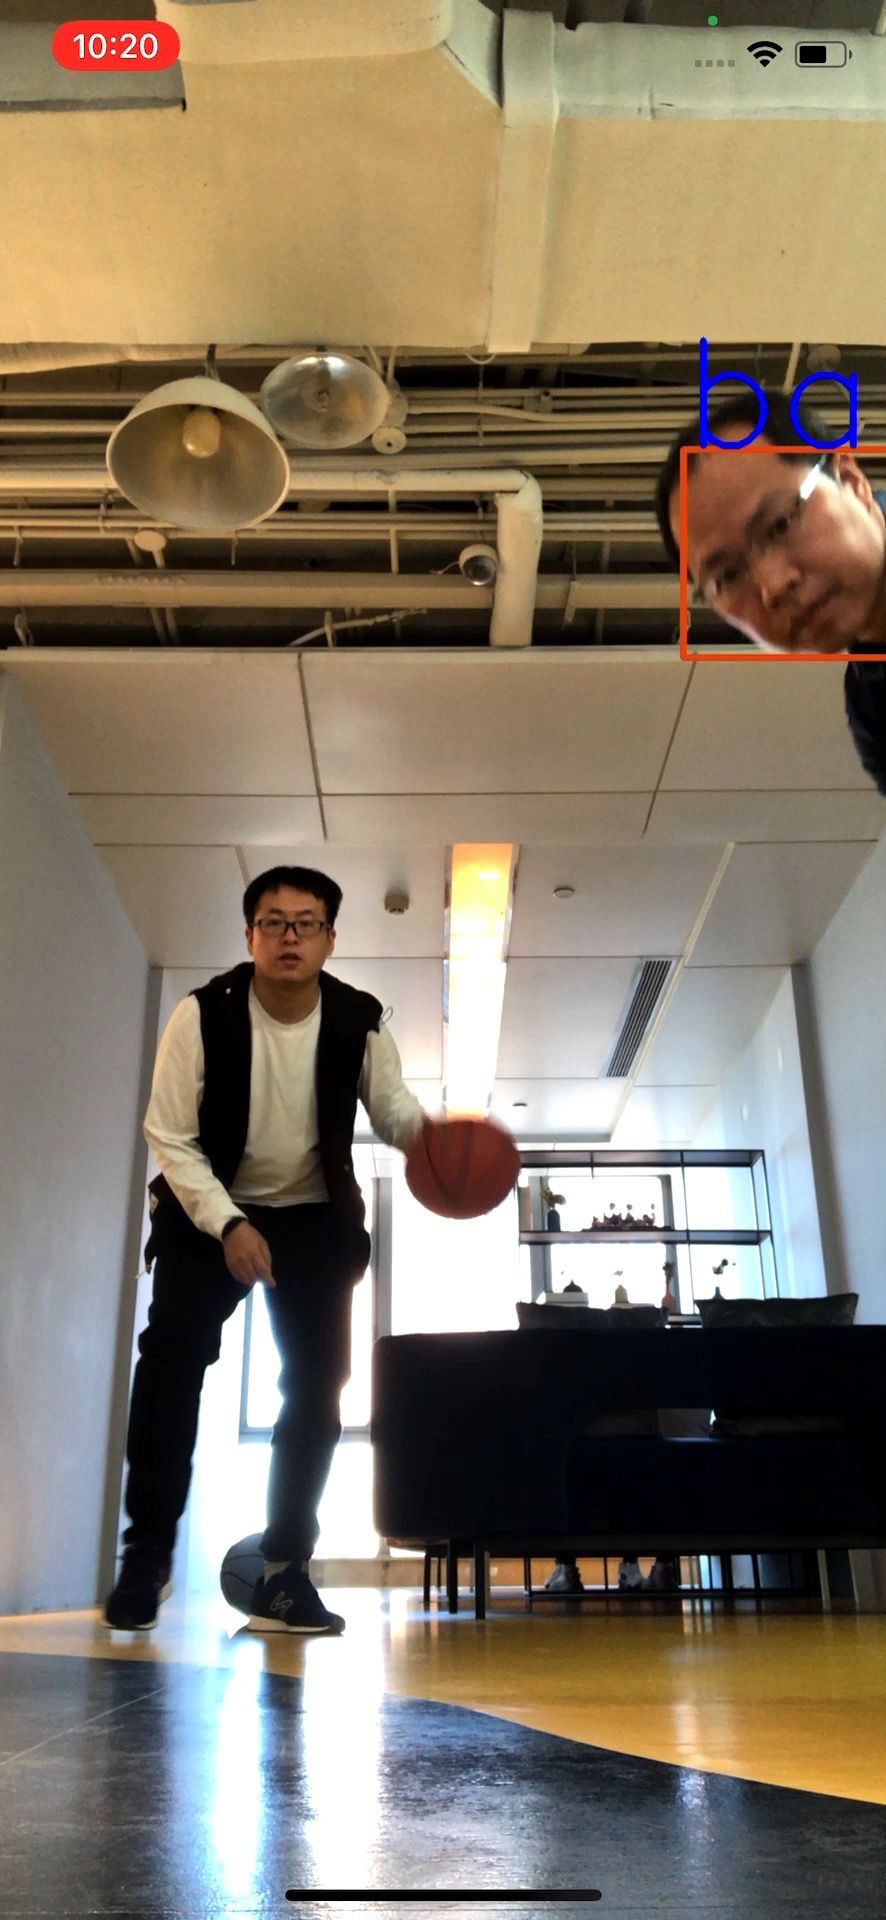ball: (404, 1112, 518, 1220)
